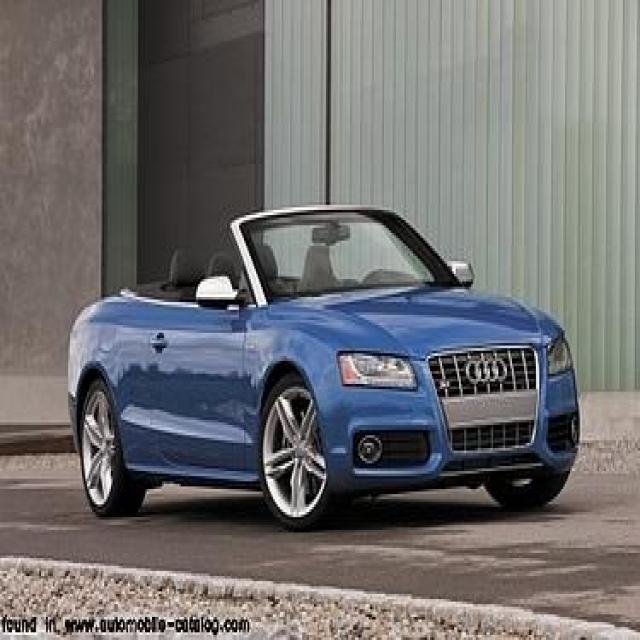Car: (45, 183, 600, 533)
